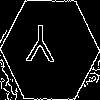Y: (25, 25, 55, 71)
